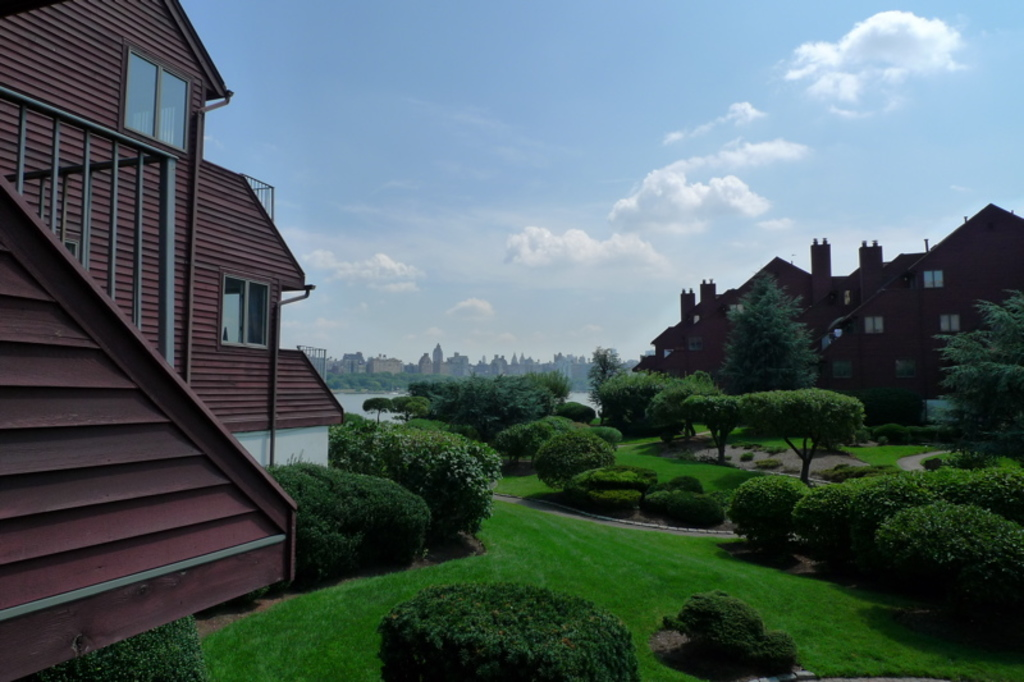Tree: (597, 371, 867, 484), (729, 250, 837, 405), (929, 291, 1022, 445), (409, 371, 567, 432), (590, 345, 625, 424), (360, 390, 428, 422)
